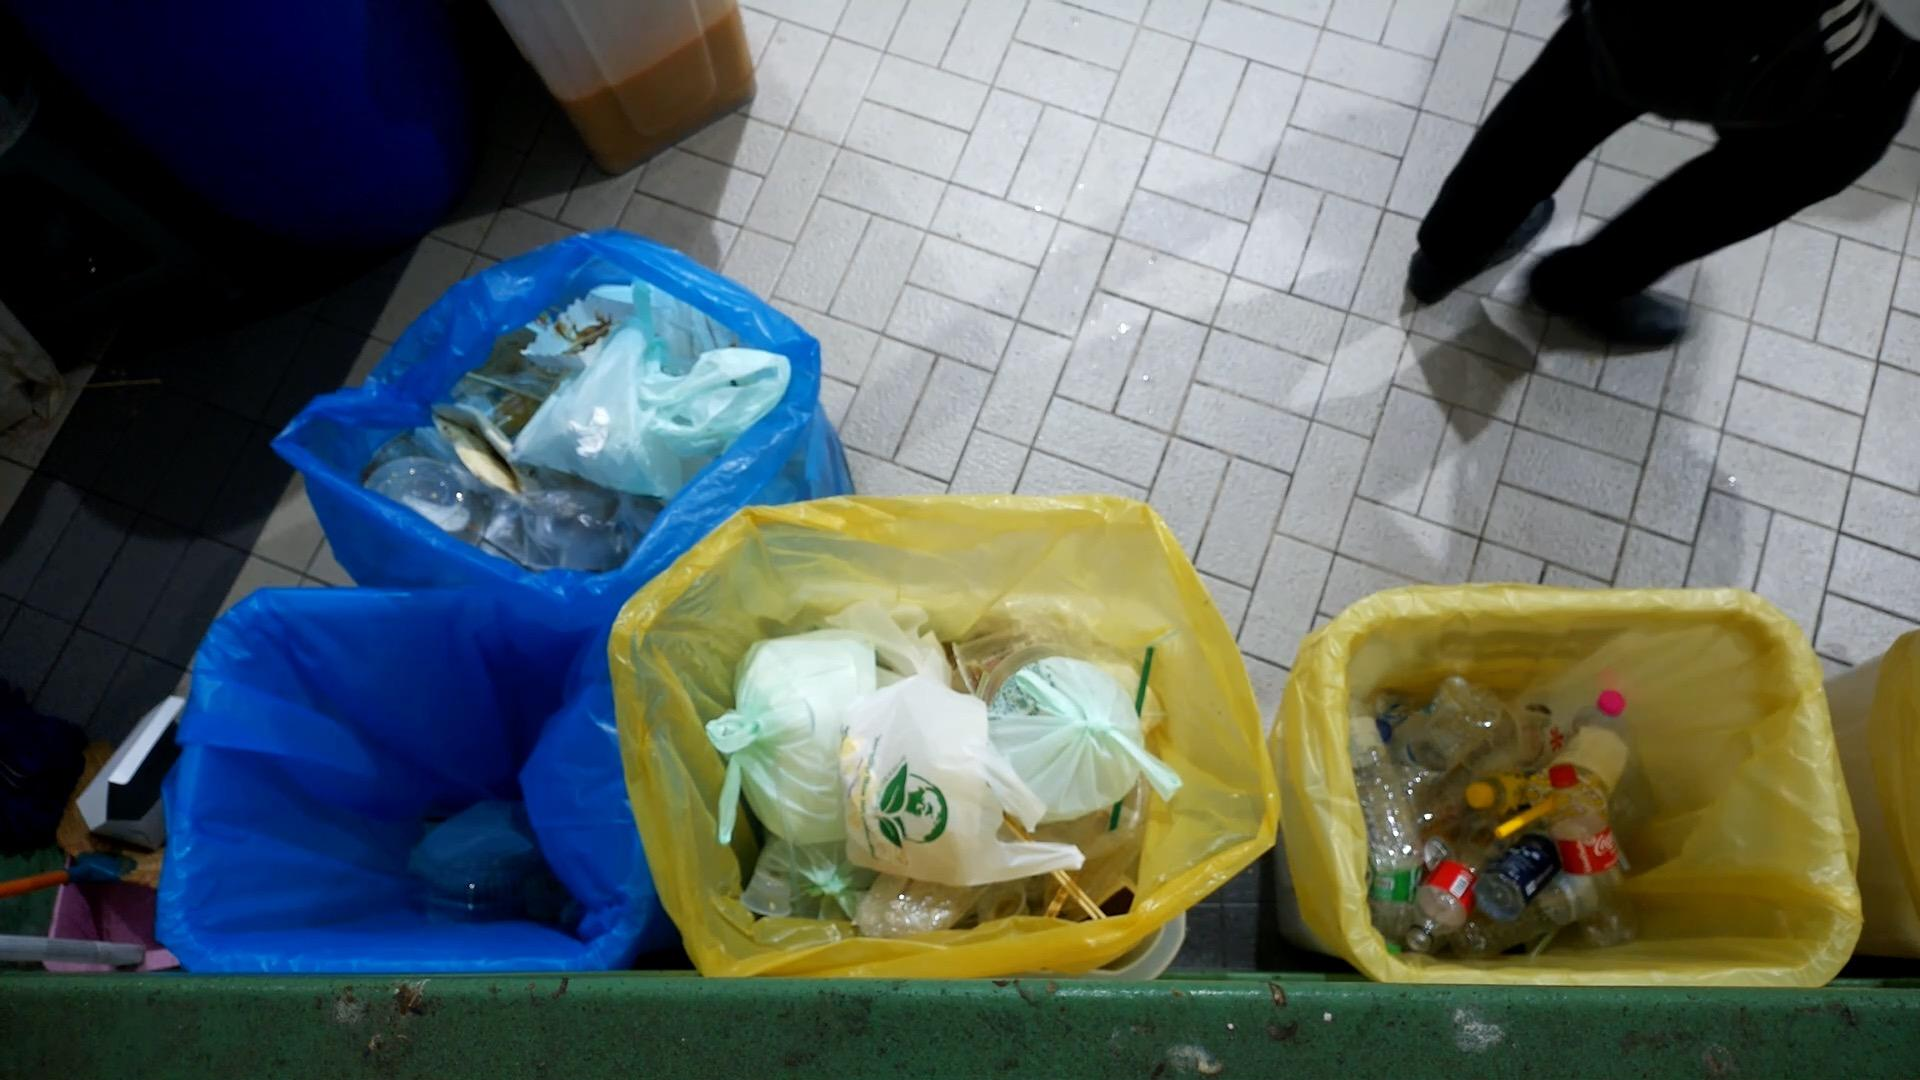filled plastic bag: (840, 676, 1087, 887), (705, 628, 876, 843), (992, 658, 1182, 825)
food container: (518, 291, 636, 376)
plastic bag: (646, 348, 794, 464)
plastic bottle: (1544, 762, 1642, 947), (1336, 692, 1429, 874), (1406, 820, 1501, 955)
sticks: (1004, 822, 1112, 922)
straw: (1104, 640, 1160, 833)
tissue paper: (568, 407, 615, 462)
